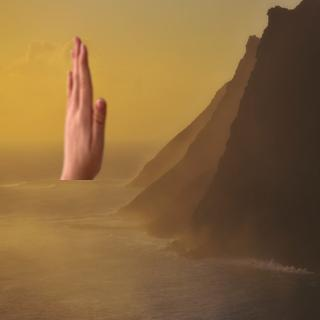Right: (54, 29, 115, 178)
